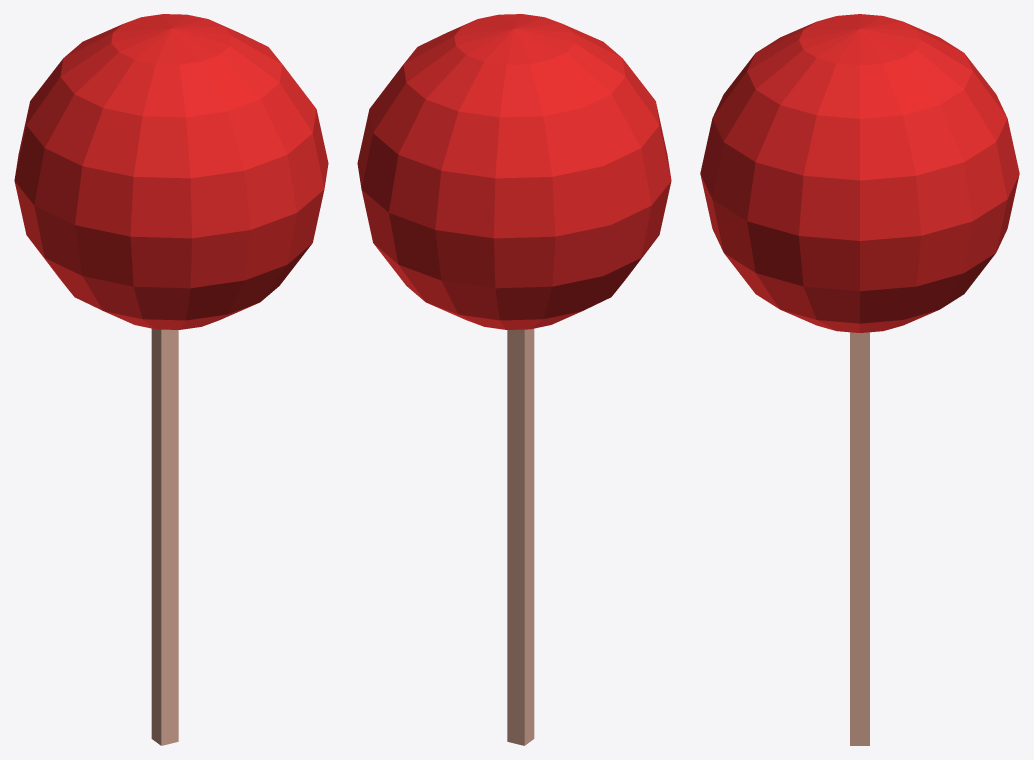
File: loly pop v3.fbx
3 views of the same model, side by side, from view 1: azimuth 30°, elevation 25°; view 2: azimuth 150°, elevation 25°; view 3: azimuth 270°, elevation 25° (orthographic).
Visible parts, largest first — view 1: Sphere; view 2: Sphere; view 3: Sphere.
Part boxes in pixels (<box>): Sphere: <box>14,14,328,745</box>; Sphere: <box>357,14,671,745</box>; Sphere: <box>700,14,1019,745</box>.
Bounding box in the file's own units: 509 × 1260 × 509.
